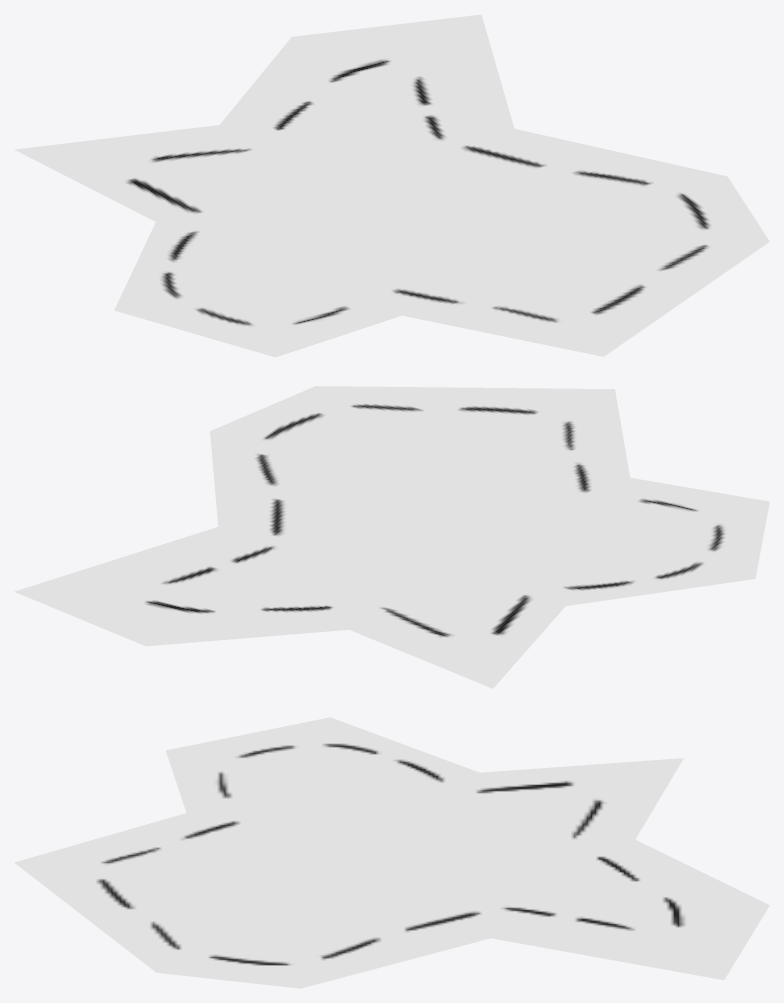
File: patch-random.fbx
The picture shows the model from 3 angles, top to bottom: view 1: azimuth 30°, elevation 25°; view 2: azimuth 150°, elevation 25°; view 3: azimuth 270°, elevation 25°; orthographic projection. The views are drawn at different scales.
Parts seen in each view (by area): view 1: patch-random; view 2: patch-random; view 3: patch-random.
Boxes of the visible parts, x1,y1,x2,y2 form: patch-random: (14, 14, 769, 357); patch-random: (14, 386, 769, 688); patch-random: (14, 717, 769, 988).
Size of the model in its own units: 18.86 by 0 by 22.2.
Materials: 1 (1 with a texture image).
